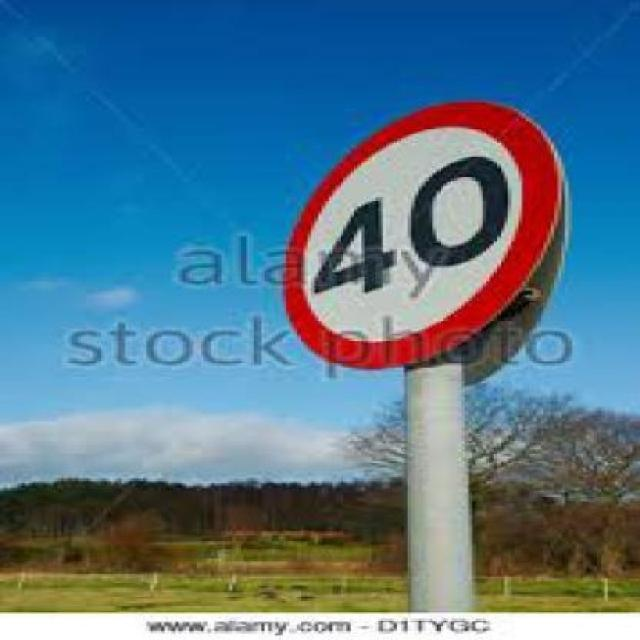forb_speed_over_40: (292, 122, 560, 356)
